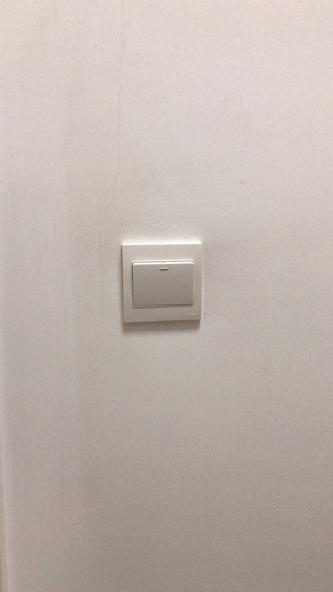switch: (131, 262, 198, 311)
